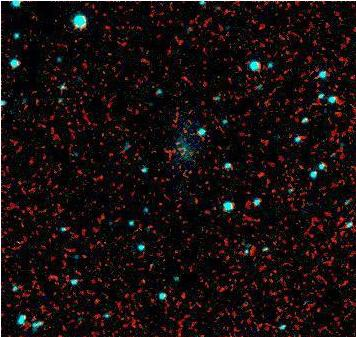star: (246, 158, 276, 188)
